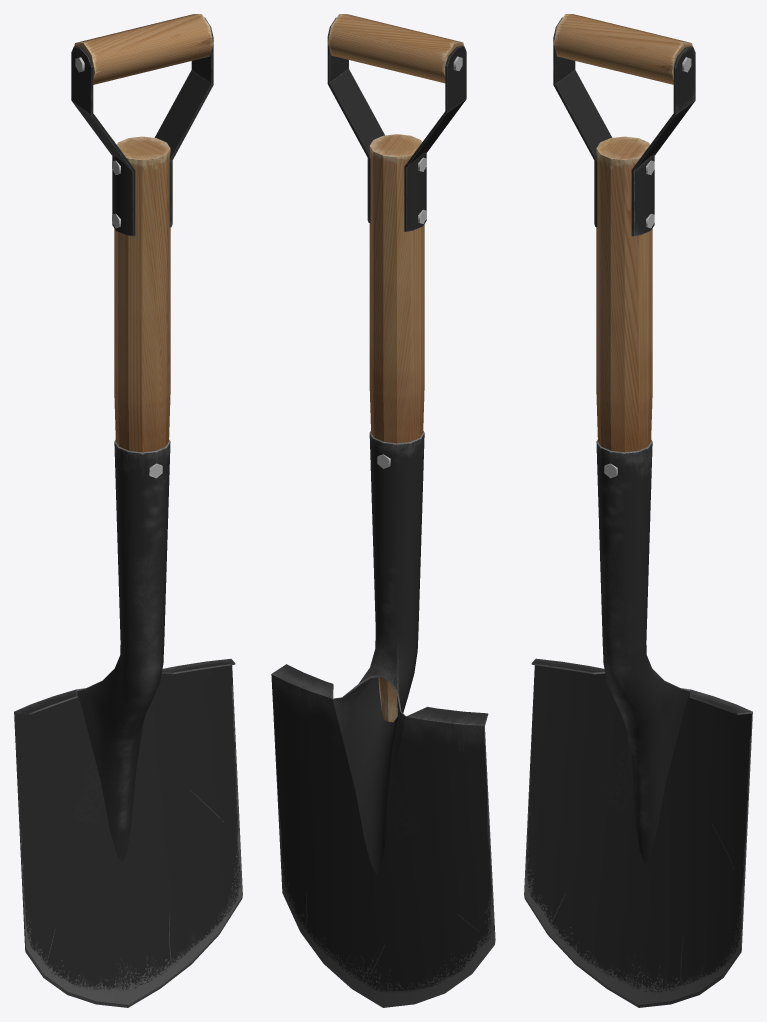
Rendered from shovel_02_lowpoly.FBX.
The picture shows the model from 3 angles, left to right: view 1: azimuth 30°, elevation 25°; view 2: azimuth 150°, elevation 25°; view 3: azimuth 330°, elevation 25°; orthographic projection. The views are drawn at different scales.
Visible parts, largest first — view 1: shovel_02_lowpoly; view 2: shovel_02_lowpoly; view 3: shovel_02_lowpoly.
Boxes of the visible parts, x1,y1,x2,y2 form: shovel_02_lowpoly: (14,14,242,1007); shovel_02_lowpoly: (271,14,495,1007); shovel_02_lowpoly: (524,14,752,1007).
Bounding box in the file's own units: 10.84 × 47.25 × 3.7.
